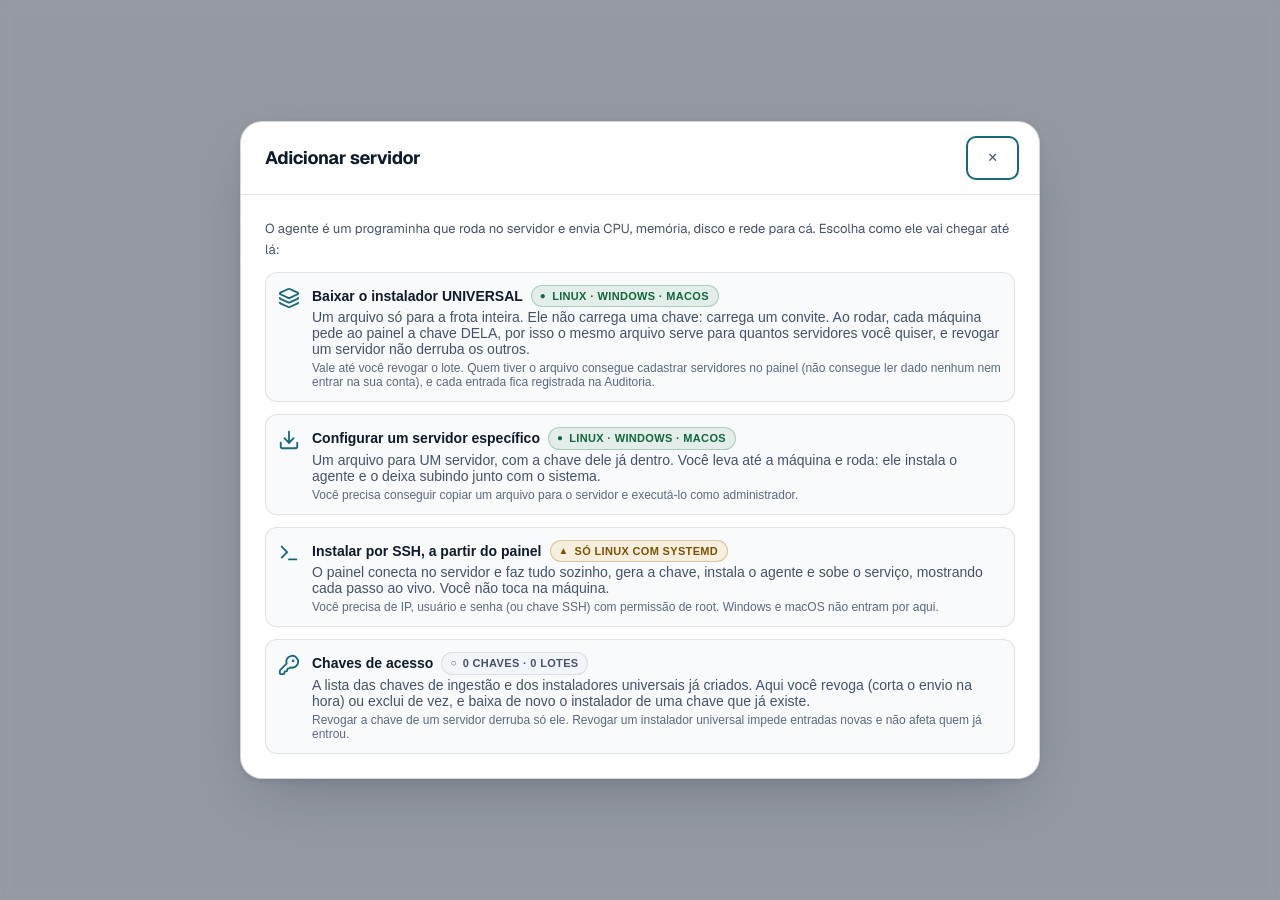
it: Adicionar servidor — escolha do caminho › escolher um caminho leva ao passo dele, com volta
The image size is (1280, 900).
Click the button "Configurar um servidor específico" at (640, 464), box x1=265 y1=414 x2=1015 y2=515
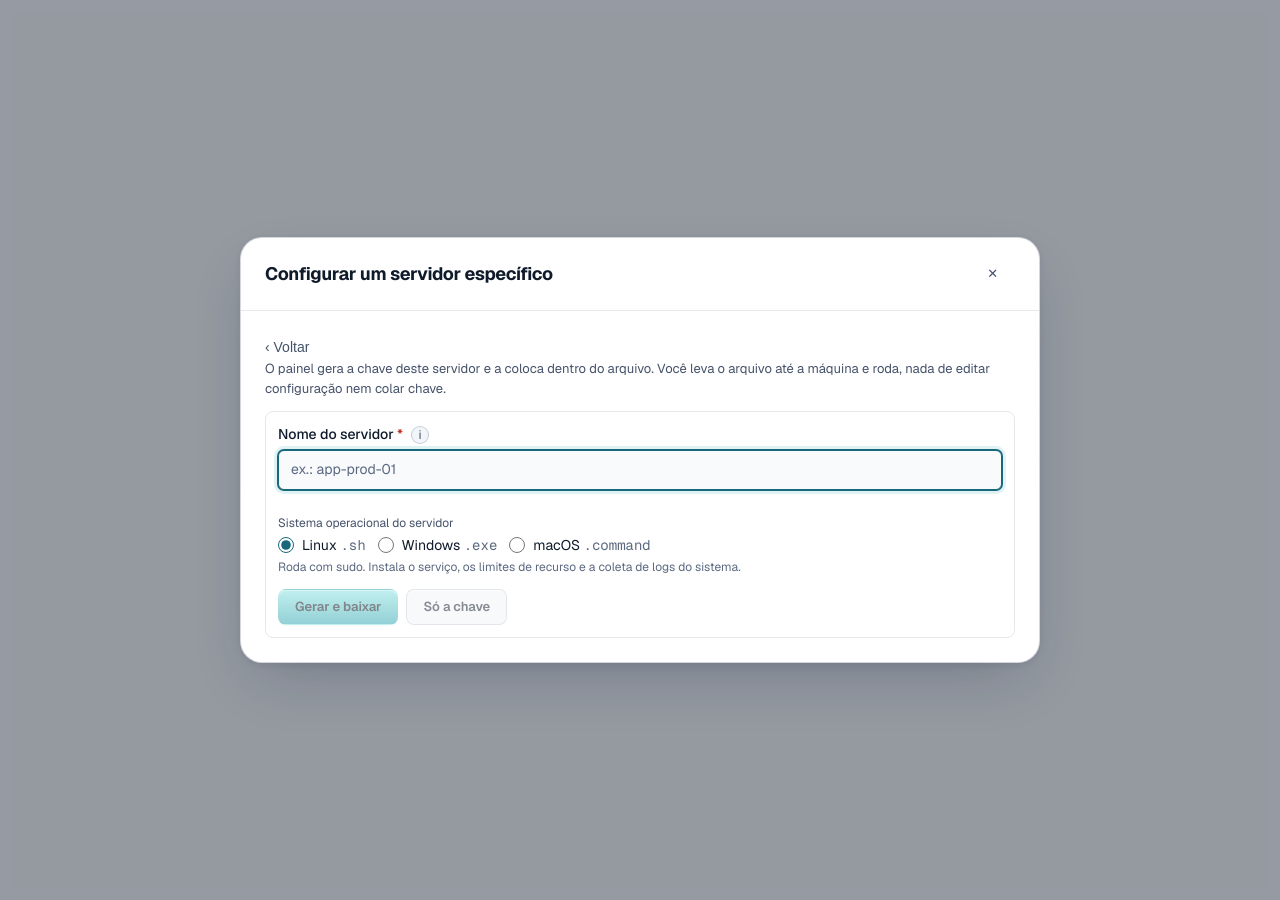
Check: the field with placeholder "ex.: app-prod-01" is shown, box x1=278 y1=450 x2=1002 y2=490
Check: the radio button labelled "Linux .sh" is shown, box x1=278 y1=537 x2=294 y2=553
Check: the radio button labelled "Windows .exe" is shown, box x1=378 y1=537 x2=394 y2=553
Click the button "‹ Voltar" at (287, 347), box x1=265 y1=335 x2=309 y2=359
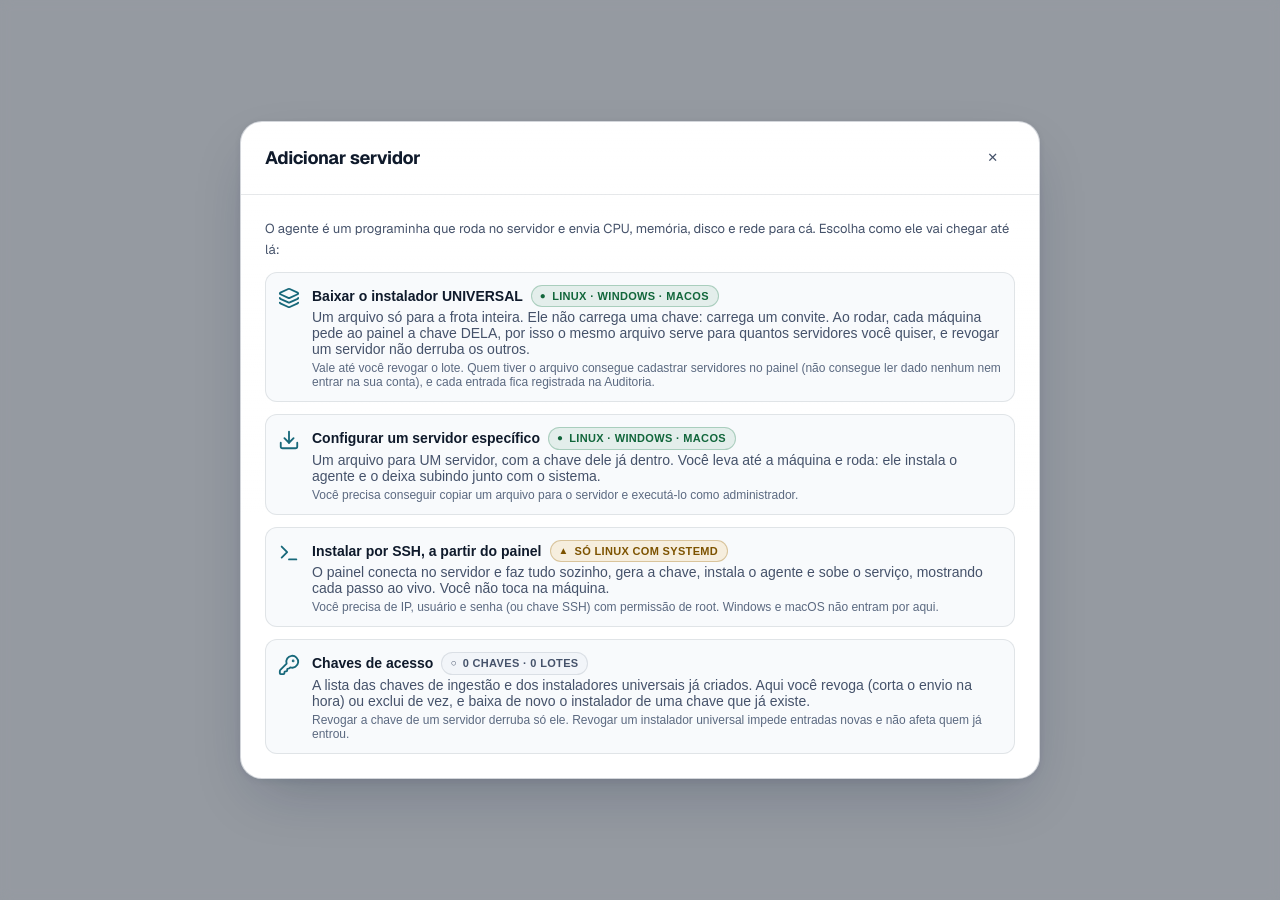
Check: the button "Instalar por SSH, a partir do painel" is shown, box x1=265 y1=527 x2=1015 y2=627
